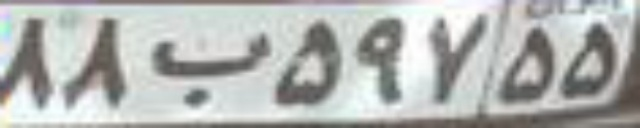5: (274, 18, 342, 108), (561, 23, 619, 100), (499, 25, 554, 106)
7: (425, 11, 486, 107)
8: (62, 18, 128, 109), (2, 16, 53, 109)
9: (345, 15, 405, 105)
be: (150, 30, 270, 108)
